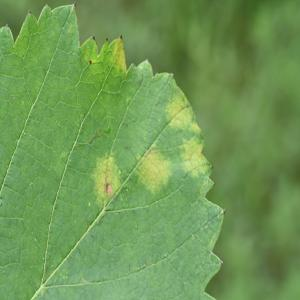Folha: (0, 1, 225, 299)
Fungo: (135, 148, 173, 196), (93, 150, 123, 202), (178, 134, 211, 180), (168, 88, 197, 134), (112, 31, 129, 76), (106, 182, 112, 196), (117, 168, 122, 175), (88, 60, 92, 64)
